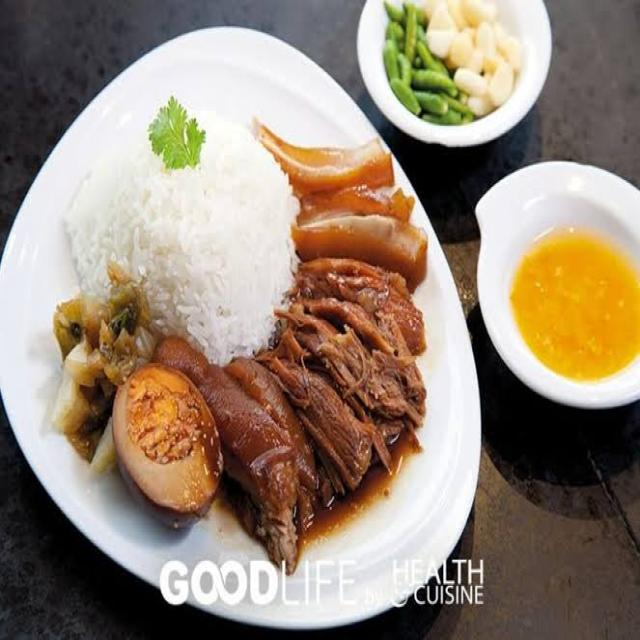carb: (91, 103, 296, 348)
meat: (271, 132, 413, 526)
stewed pork leg on rice: (27, 82, 433, 546)
vegetable: (146, 103, 209, 172)
